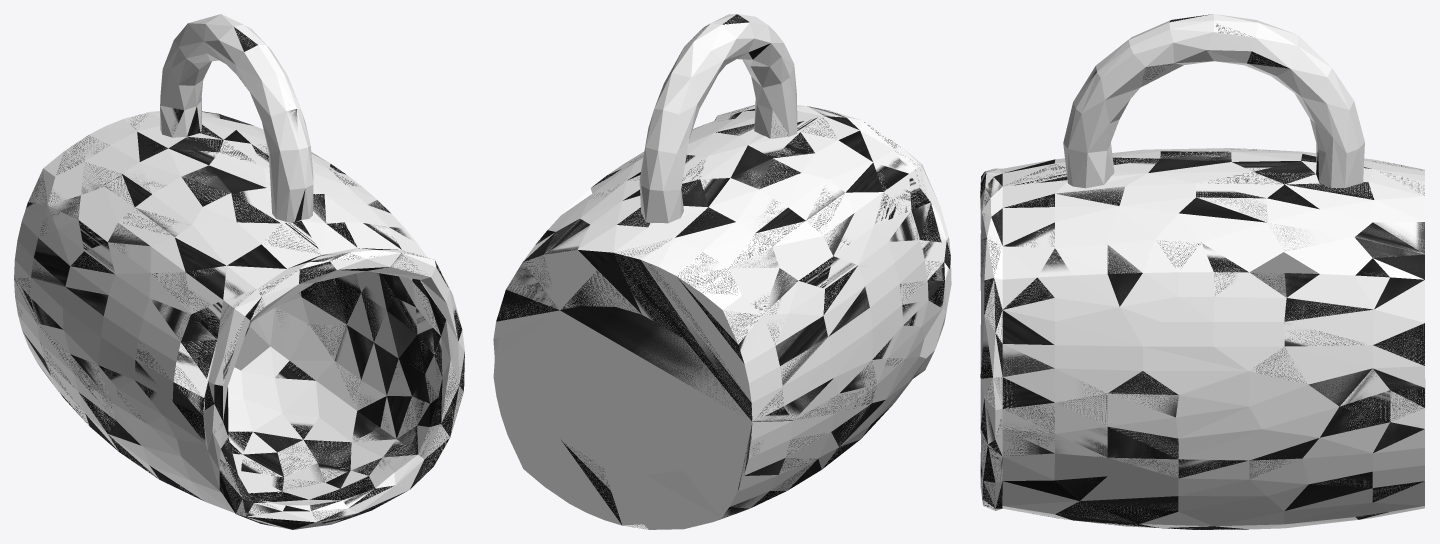
Rendered from model_align.obj.
The picture shows the model from 3 angles, left to right: view 1: azimuth 30°, elevation 25°; view 2: azimuth 150°, elevation 25°; view 3: azimuth 270°, elevation 25°; orthographic projection. The views are drawn at different scales.
Size of the model in its own units: 0.0791 by 0.1154 by 0.0946.
